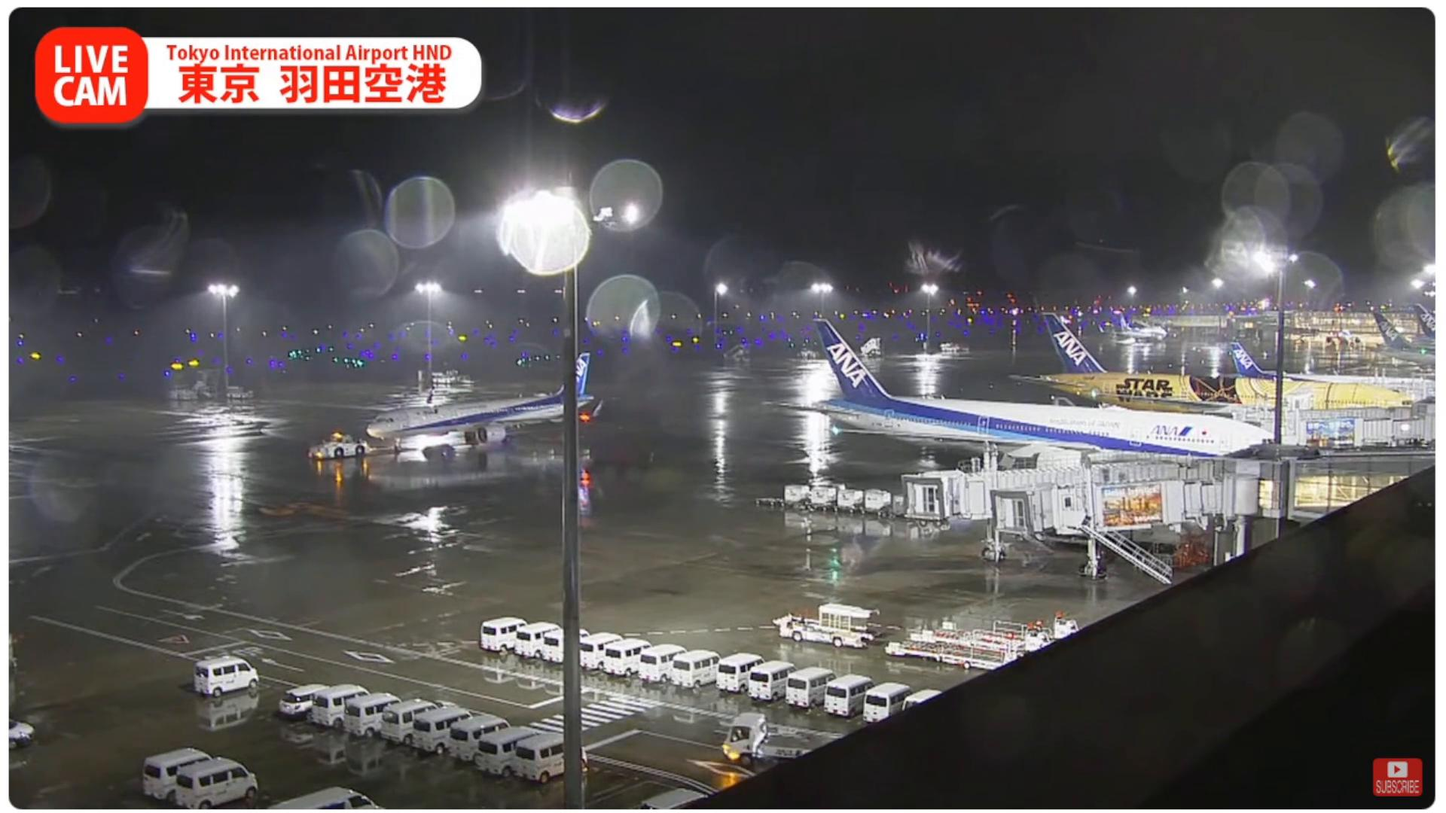APS: (308, 432, 369, 463)
Aerobridge: (898, 461, 1193, 525), (988, 473, 1227, 539)
Airplane: (362, 348, 597, 449)
Dolly: (782, 478, 897, 519)
JCPL: (914, 617, 1081, 654), (884, 636, 1033, 667)
Skyloader: (771, 602, 883, 649)
Window: (1289, 476, 1414, 509)
